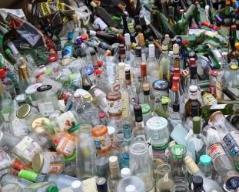glass: (2, 2, 239, 192)
